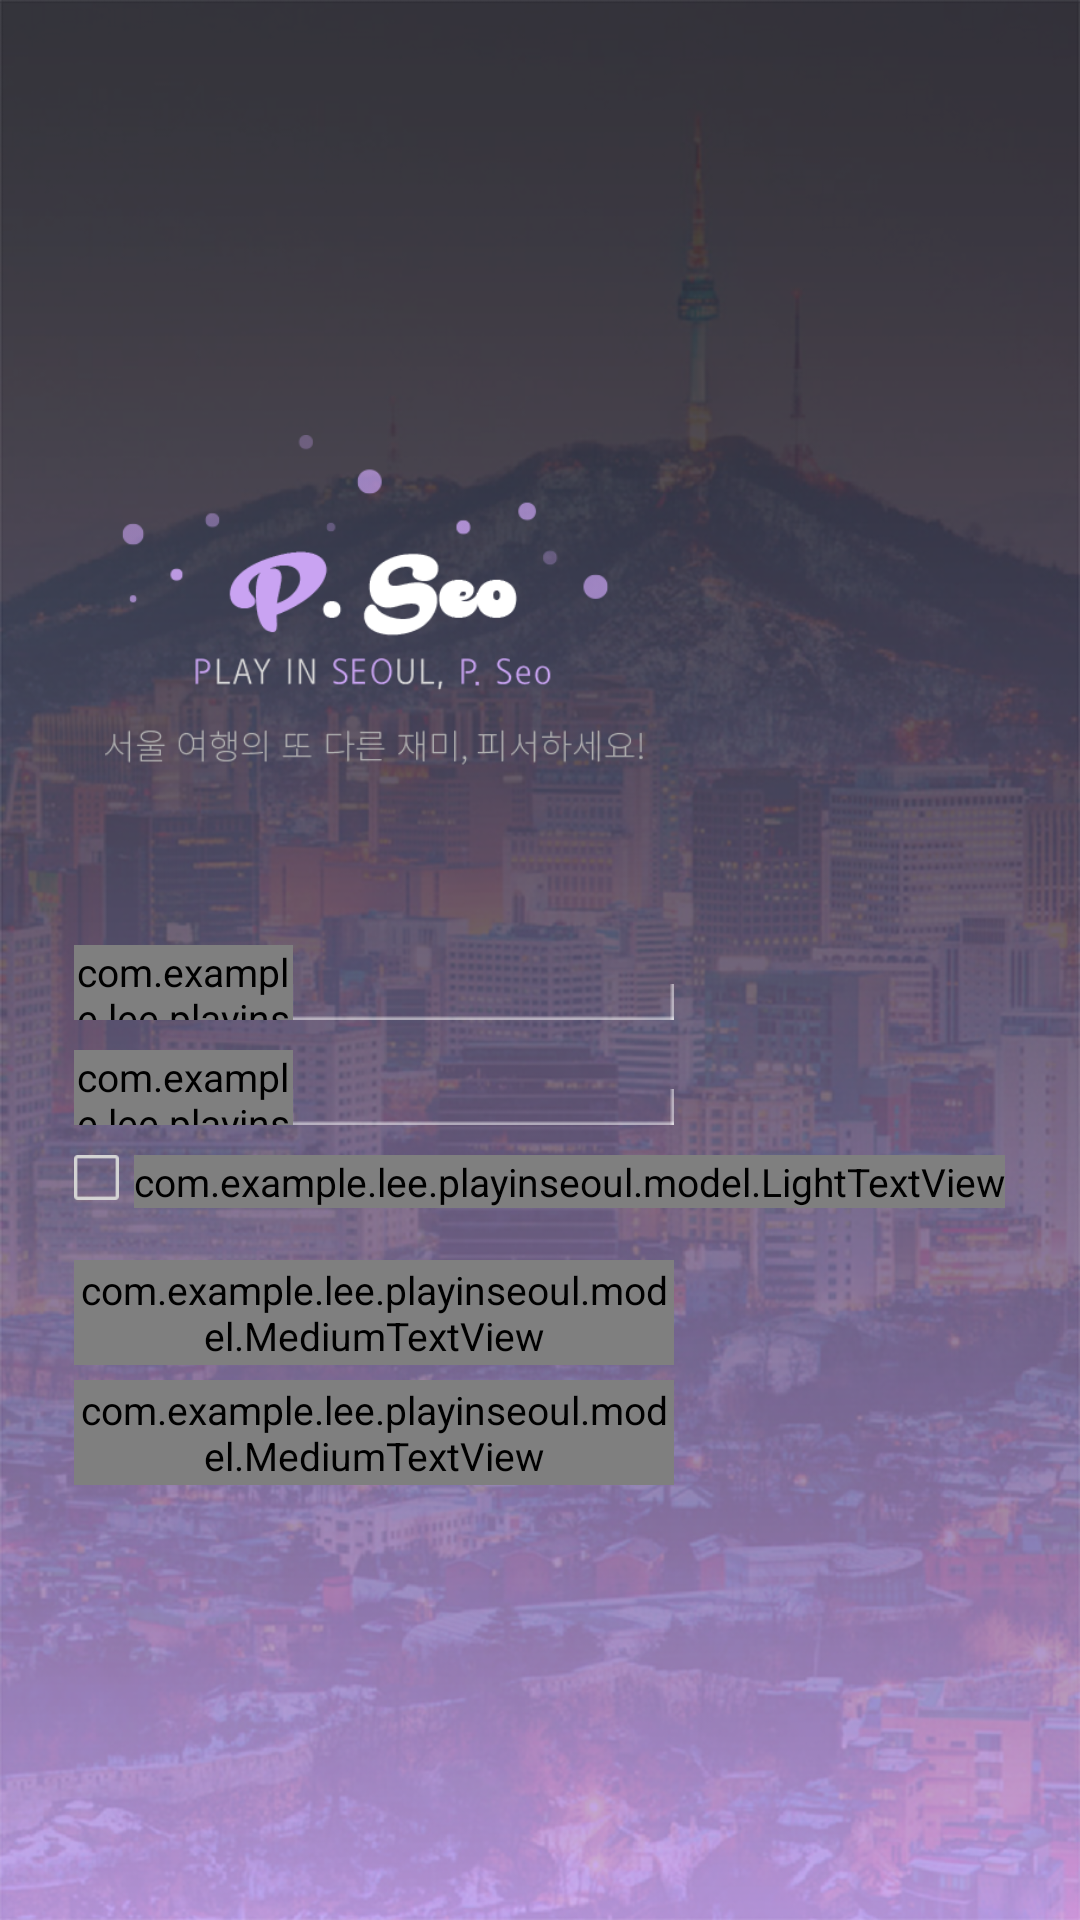

Named icons in this screenshot (1080px×1920px) and their bounding boxes, (x1, y1, x2, y2):
checkbox: (74, 1155, 119, 1200)
